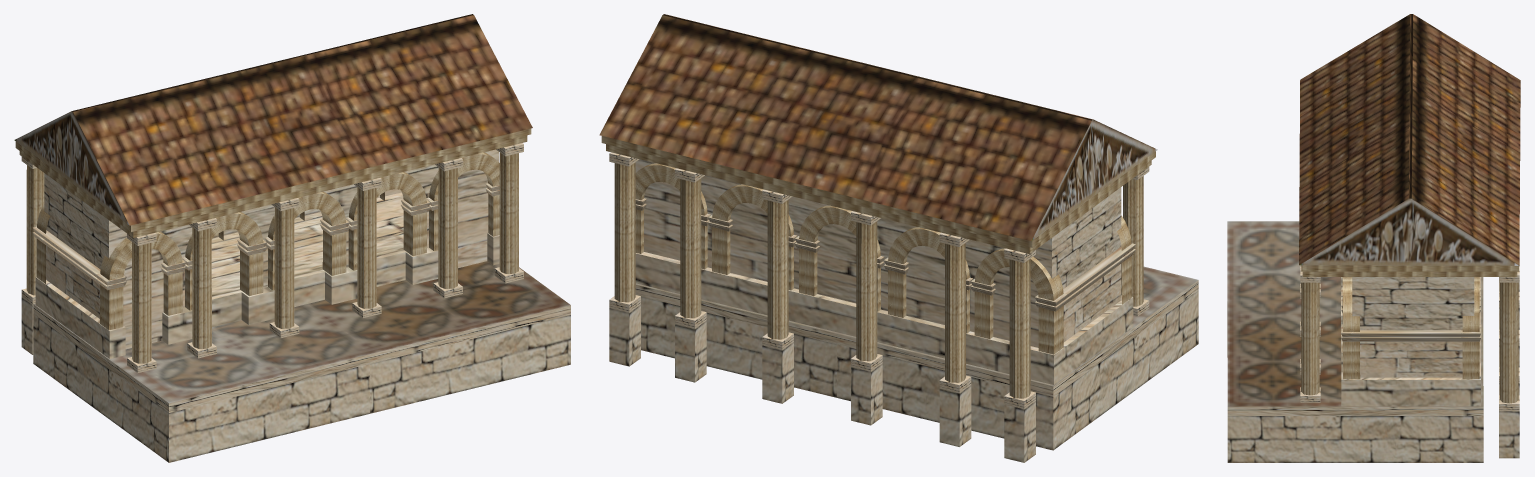
Rendered from temple.dae.
The picture shows the model from 3 angles, left to right: view 1: azimuth 30°, elevation 25°; view 2: azimuth 150°, elevation 25°; view 3: azimuth 270°, elevation 25°; orthographic projection. The views are drawn at different scales.
Parts seen in each view (by area): view 1: temple; view 2: temple; view 3: temple.
Part boxes in pixels (box(x1,y1,x2,y2)): temple: box(14, 14, 570, 462); temple: box(599, 14, 1198, 462); temple: box(1227, 14, 1520, 462).
Size of the model in its own units: 25.93 by 17.09 by 16.98.
